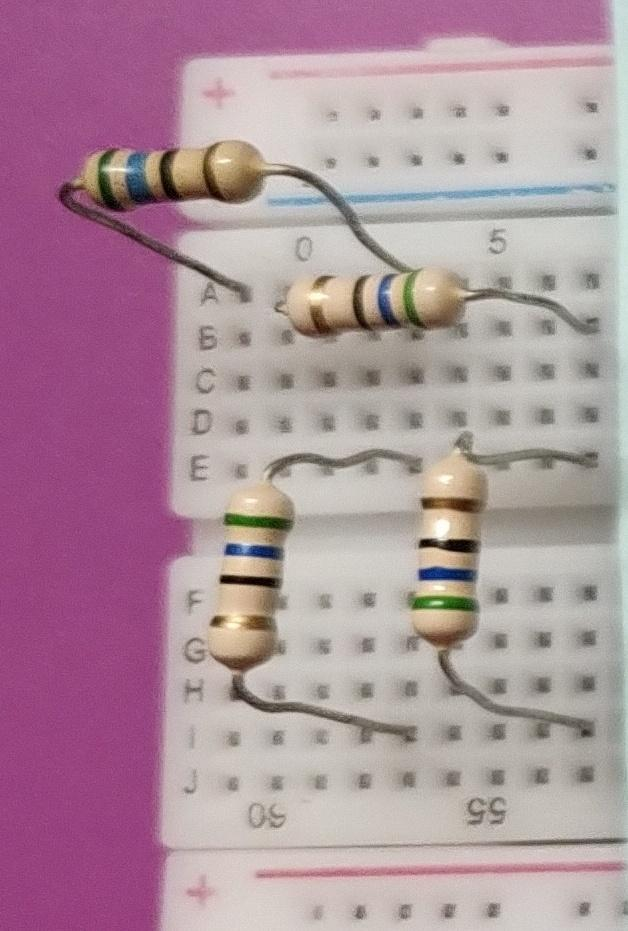resistor: (65, 112, 282, 241), (197, 471, 309, 701), (401, 435, 494, 658), (265, 261, 492, 339)
